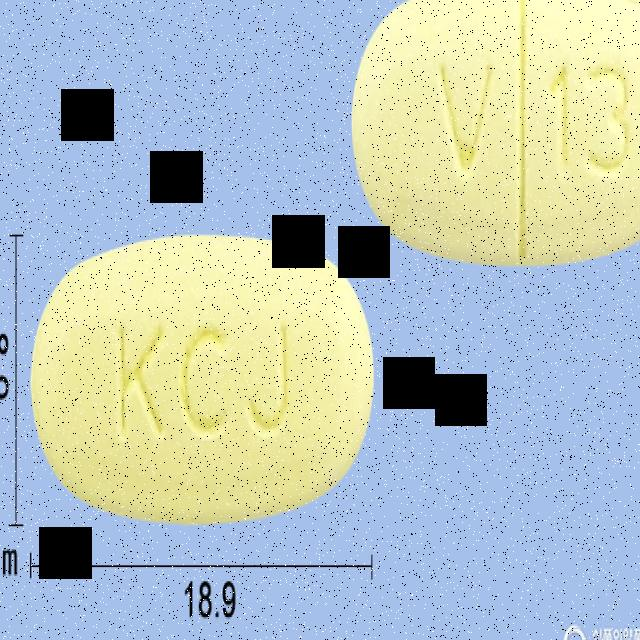Retami Tab: (30, 230, 375, 526), (350, 0, 640, 265)
